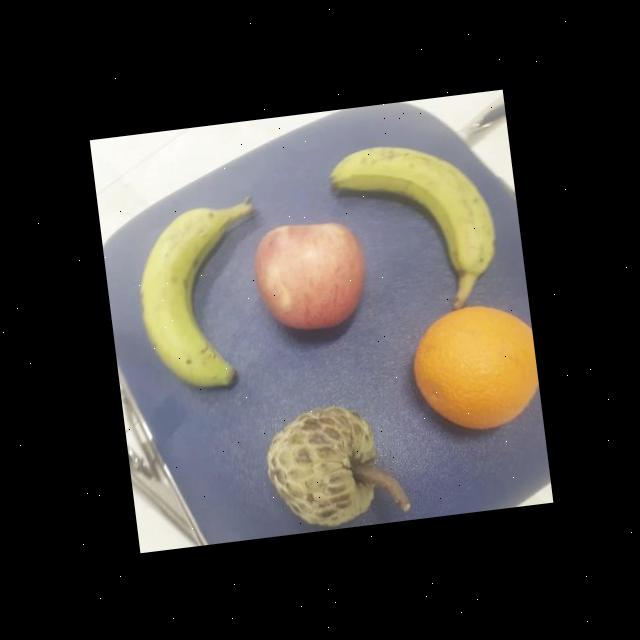Sakya fruit: (260, 398, 386, 534)
apple: (247, 215, 372, 338)
banana: (322, 124, 502, 294), (128, 195, 272, 392)
orange: (400, 294, 542, 438)
